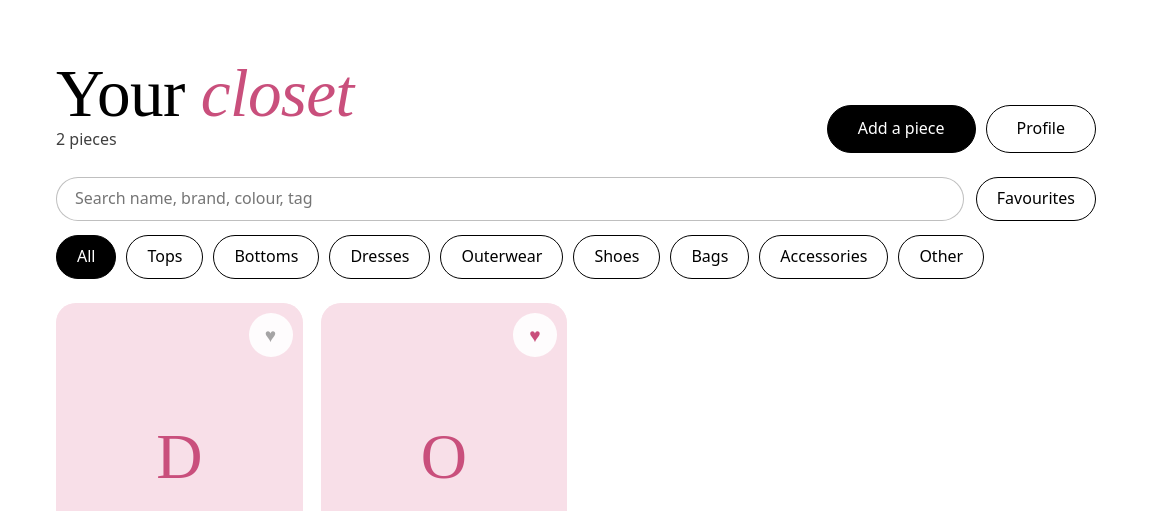
Closet page › adding: an empty form is stopped with an error and nothing is saved; a valid one appears in the grid
The image size is (1152, 511).
Click the button "Add a piece".
click(901, 129)  # box [827, 105, 976, 153]
(page scrolled)
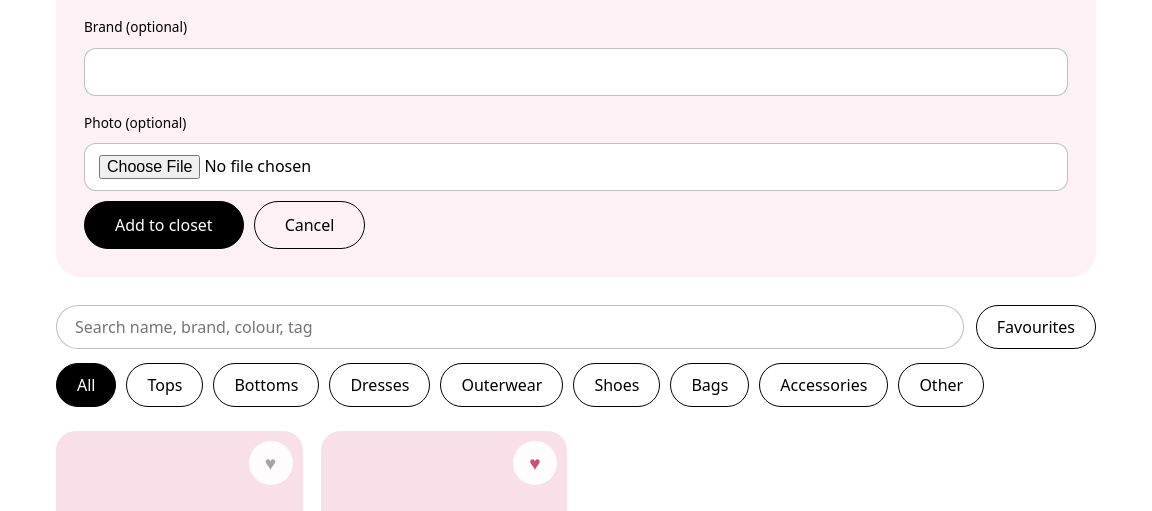
Click the button "Add to closet".
click(164, 226)  # box [84, 202, 244, 250]
(page scrolled)
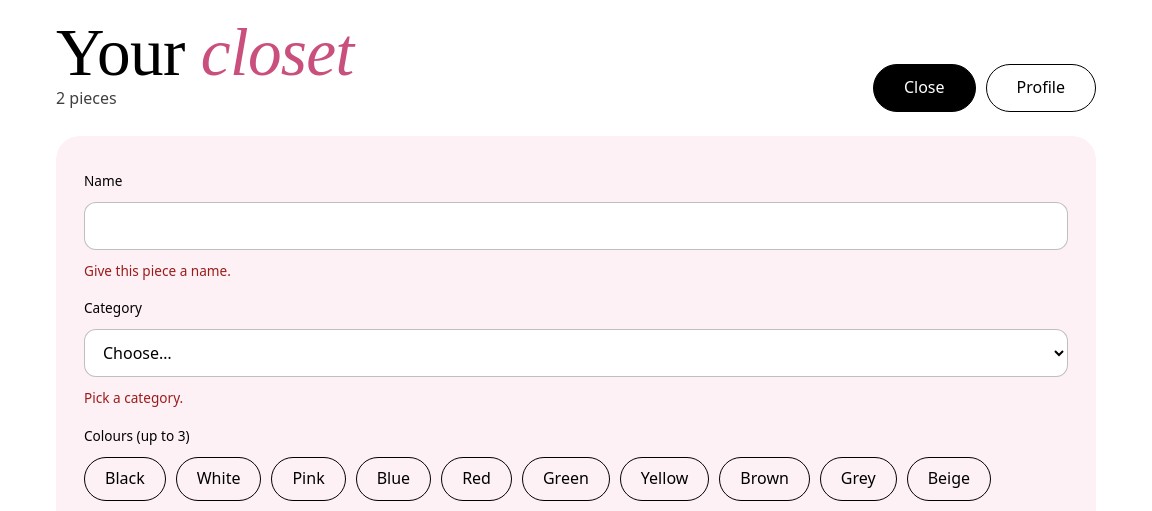
Now the text "Give this piece a name." is shown, box [84, 261, 231, 280]
Now the text "Pick a category." is shown, box [84, 388, 183, 407]
Type "Linen shirt" into the field labelled "Name".
click(576, 226); type("Linen shirt")  # box [84, 202, 1068, 250]
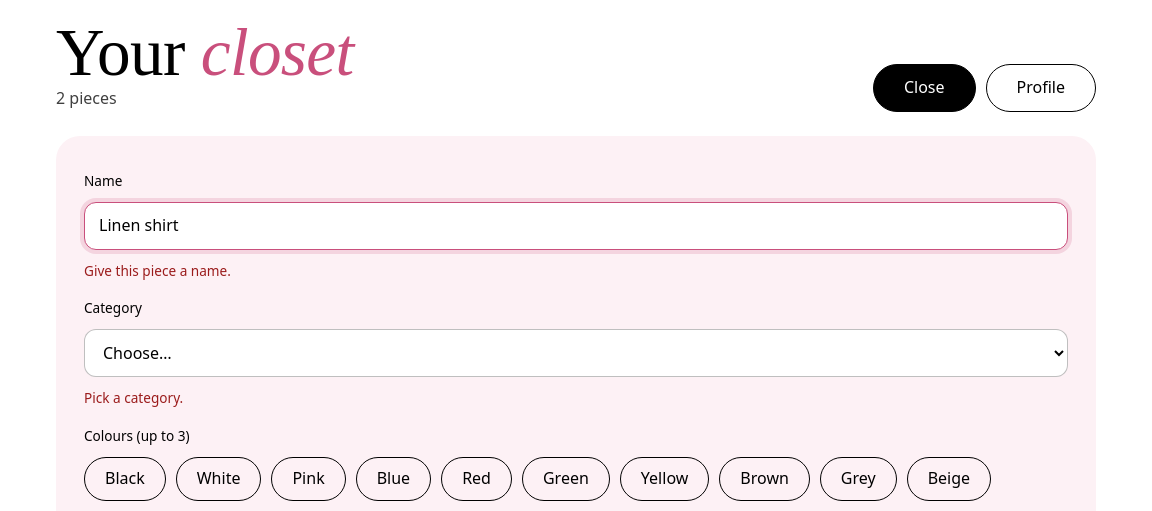
Select "Tops" in the dropdown labelled "Category" at (576, 353), box [84, 329, 1068, 377]
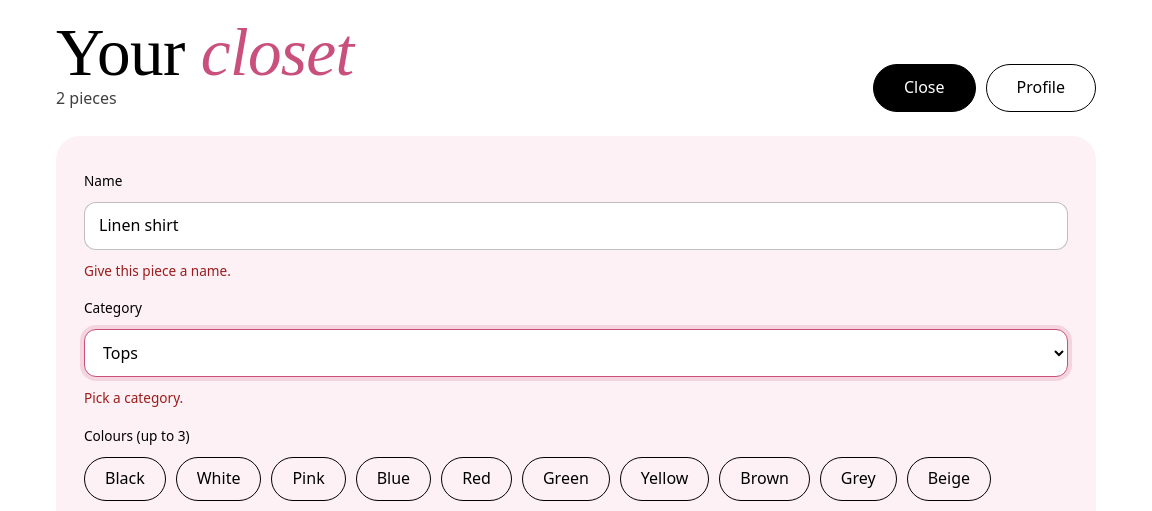
Click the button "Blue".
click(393, 479)  # box [356, 457, 431, 501]
(page scrolled)
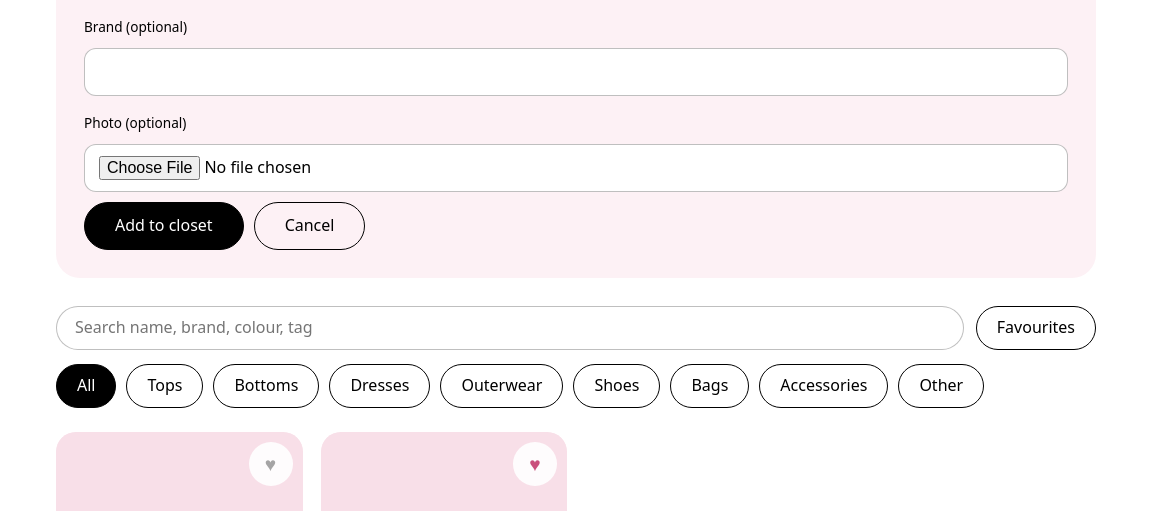
Click the button "Add to closet".
click(164, 226)  # box [84, 202, 244, 250]
(page scrolled)
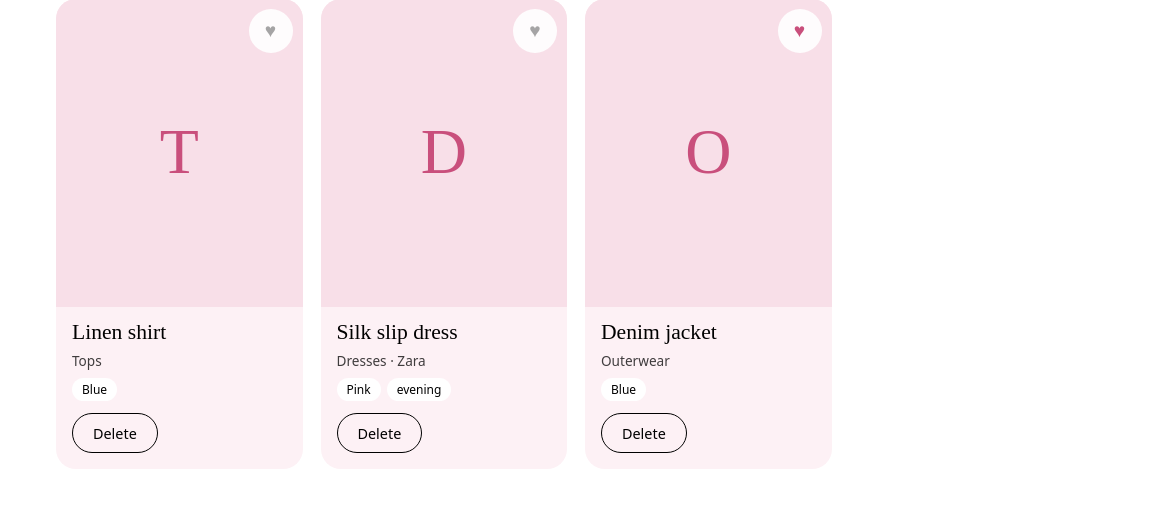
Now the heading "Linen shirt" is shown, box [72, 320, 166, 344]
